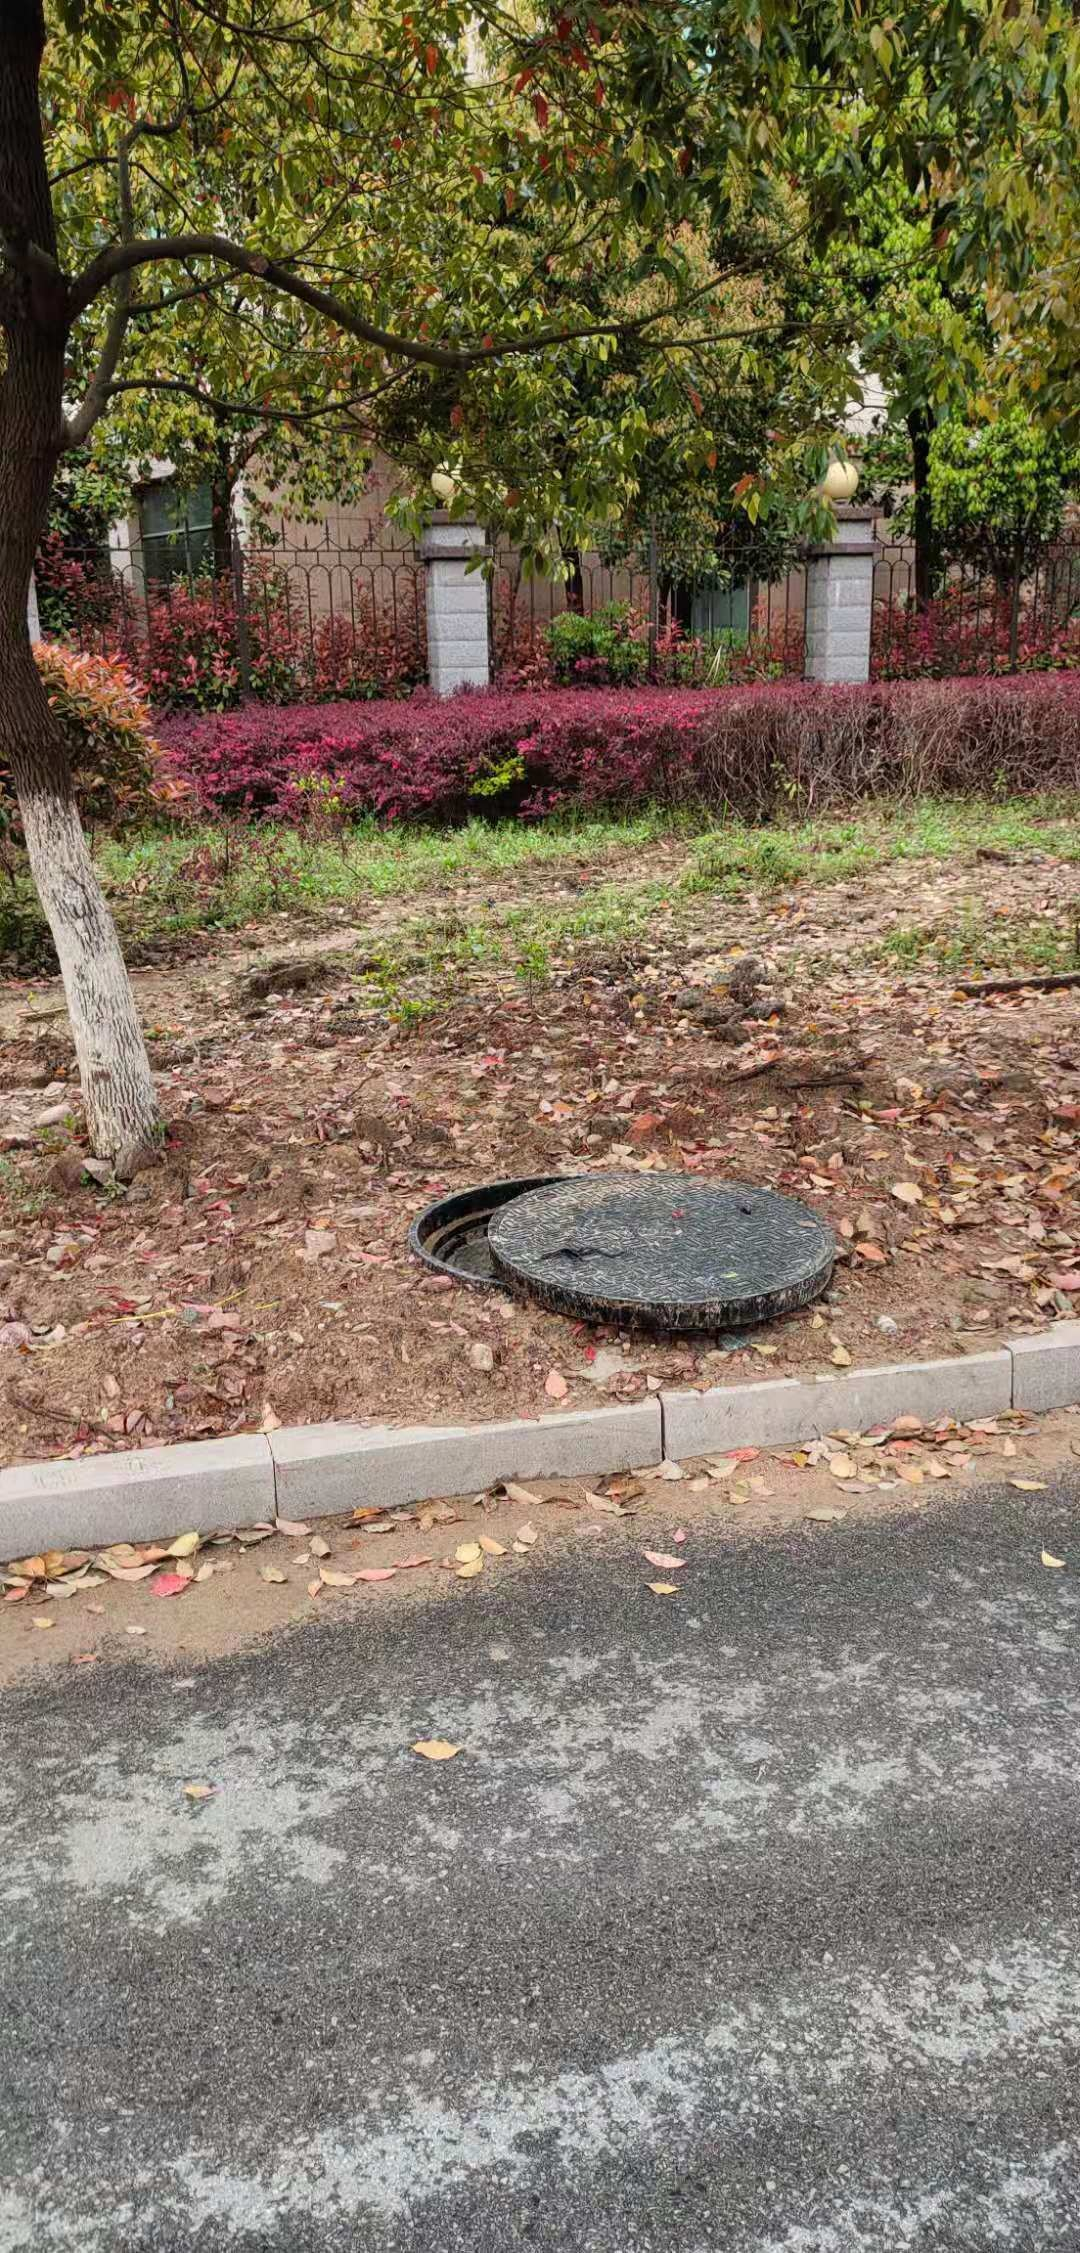well: (427, 1170, 836, 1333)
